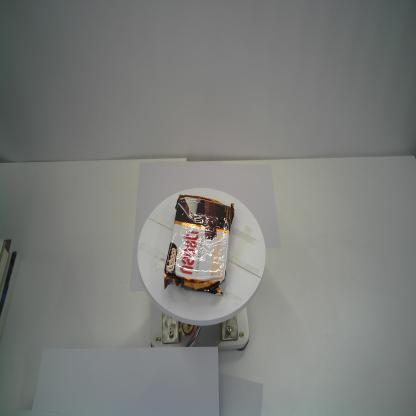Dessert: (162, 192, 236, 299)
